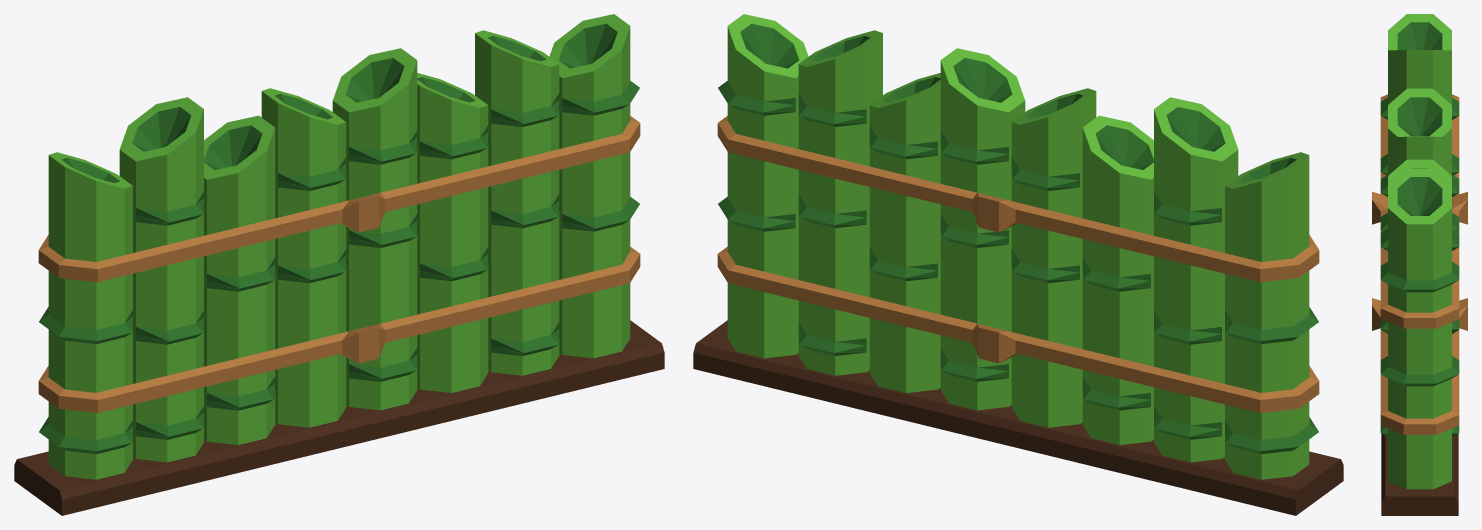
Rendered from bamboo-wall.glb.
3 renders of one model, left to right at view 1: azimuth 30°, elevation 25°; view 2: azimuth 150°, elevation 25°; view 3: azimuth 270°, elevation 25°, orthographic. The views are drawn at different scales.
Parts seen in each view (by area): view 1: Stalks, Nodes, Rope, Beam; view 2: Stalks, Nodes, Rope, Beam; view 3: Stalks, Nodes, Rope, Beam.
Boxes of the visible parts, left/top/right/bottom form: Stalks: left=48, top=14, right=630, bottom=479; Nodes: left=39, top=23, right=639, bottom=454; Rope: left=38, top=116, right=640, bottom=412; Beam: left=14, top=320, right=664, bottom=515; Stalks: left=727, top=14, right=1309, bottom=479; Nodes: left=718, top=23, right=1318, bottom=454; Rope: left=717, top=116, right=1319, bottom=412; Beam: left=693, top=320, right=1343, bottom=515; Stalks: left=1388, top=14, right=1451, bottom=489; Nodes: left=1380, top=22, right=1459, bottom=436; Rope: left=1372, top=94, right=1467, bottom=434; Beam: left=1381, top=433, right=1458, bottom=515.
Size of the model in its own units: 21.2 by 12 by 3.6.
